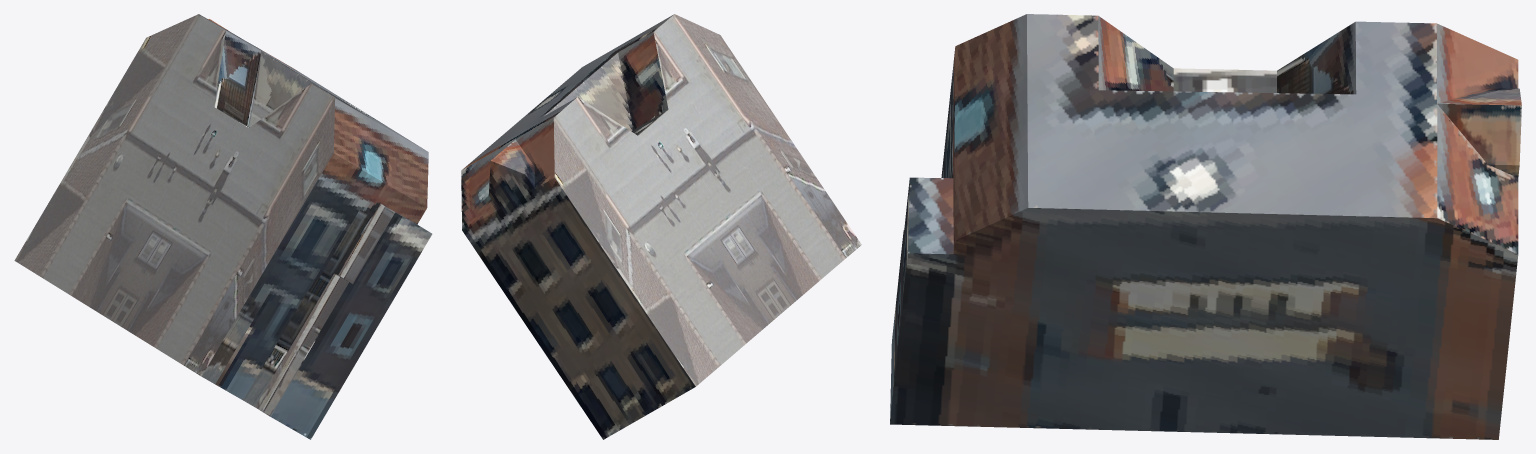
3 views of the same model, side by side, from view 1: azimuth 30°, elevation 25°; view 2: azimuth 150°, elevation 25°; view 3: azimuth 270°, elevation 25° (orthographic). The views are drawn at different scales.
Parts seen in each view (by area): view 1: BAG_0599100000670790 (×3); view 2: BAG_0599100000670790 (×3); view 3: BAG_0599100000670790 (×3).
Boxes of the visible parts, x1=… form: BAG_0599100000670790 (×3): x1=14, y1=14, x2=432, y2=439; BAG_0599100000670790 (×3): x1=461, y1=14, x2=861, y2=439; BAG_0599100000670790 (×3): x1=890, y1=14, x2=1521, y2=439.
Bounding box in the file's own units: 12.91 × 14.3 × 16.89.
3 materials, 3 textured.
